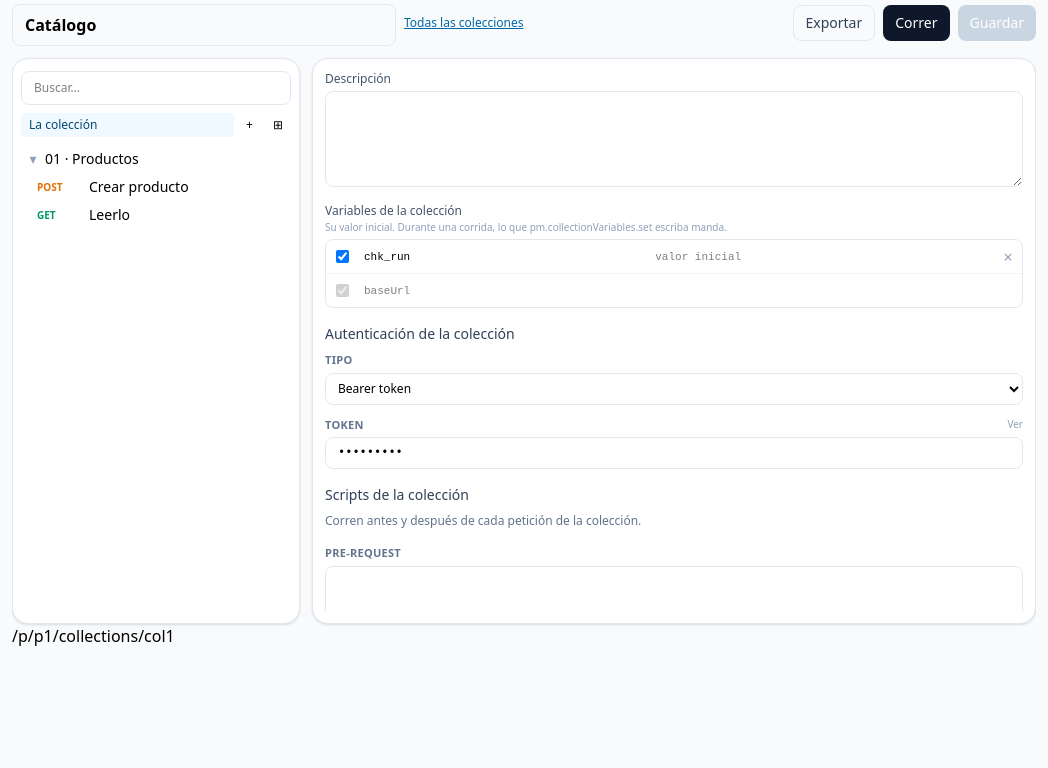
Test: el editor de una colección › pinta el árbol y abre una petición con su método, su URL y sus tests
The image size is (1048, 768).
Check: the button "01 · Productos" is shown, box x1=45 y1=149 x2=287 y2=169
Click the button "Crear producto": click(188, 187) x1=89 y1=177 x2=287 y2=197
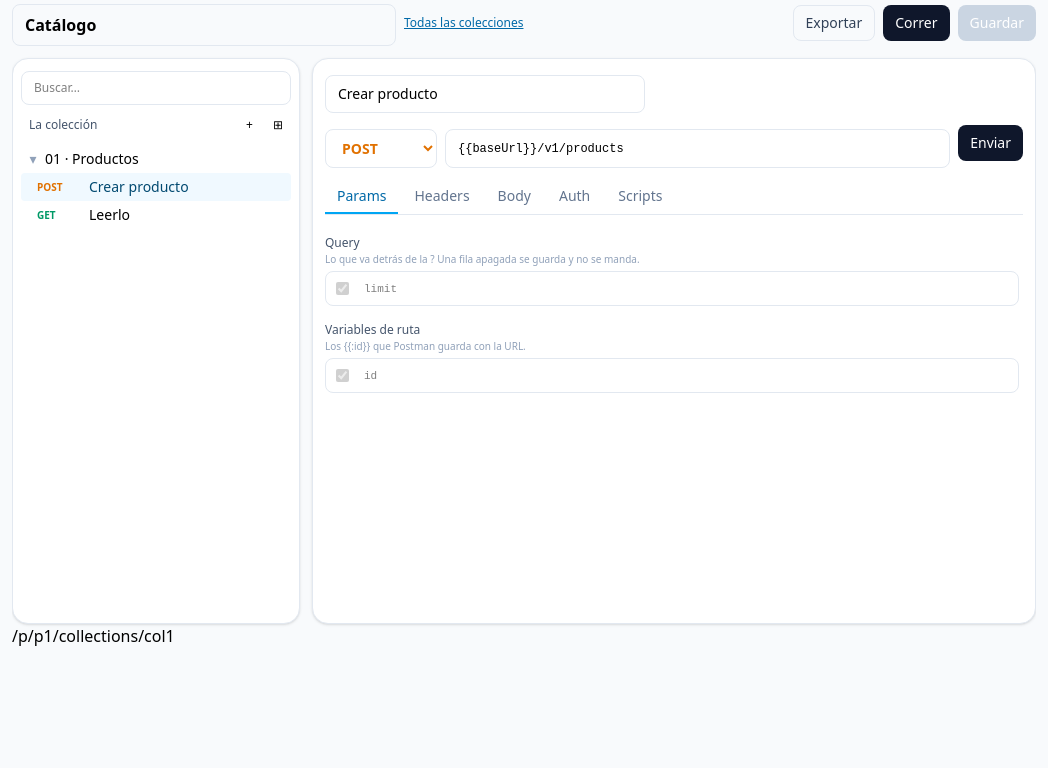
Check: the field named "Url" holds "{{baseUrl}}/v1/products", box x1=445 y1=129 x2=950 y2=168
Check: the dropdown named "Método" shows "POST", box x1=325 y1=129 x2=437 y2=168
Click the button "Scripts": click(640, 197) x1=606 y1=180 x2=674 y2=214
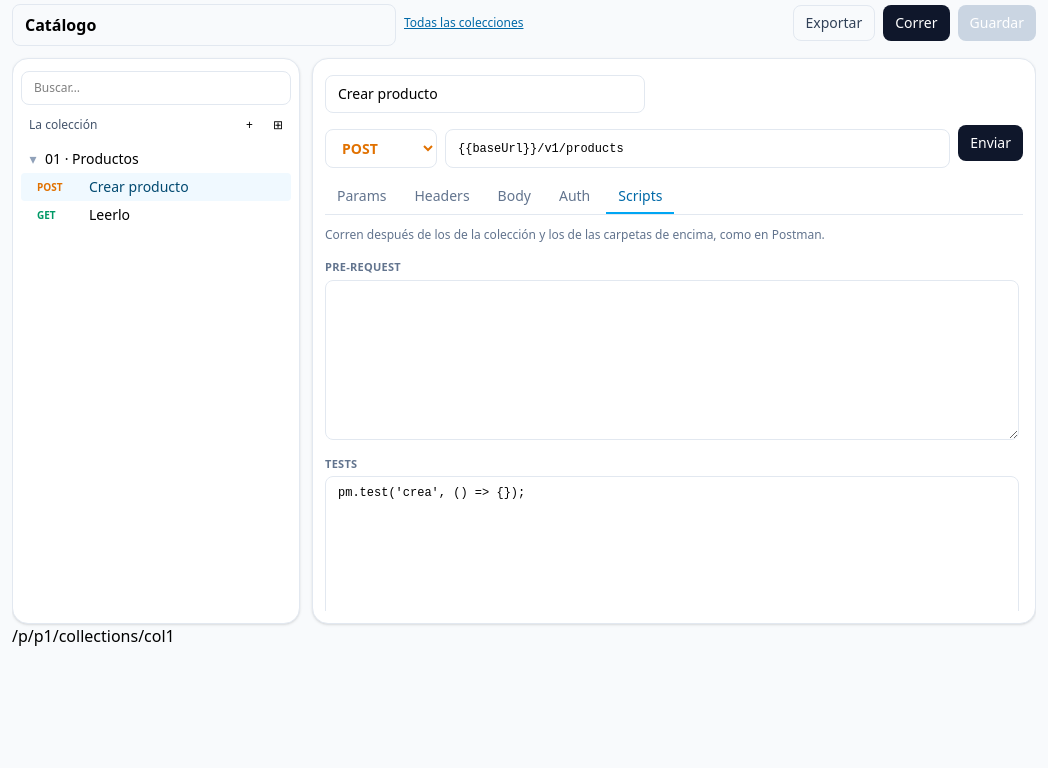
Check: the text box labelled "Tests" holds "pm.test('crea', () => {});", box x1=325 y1=476 x2=1019 y2=611
